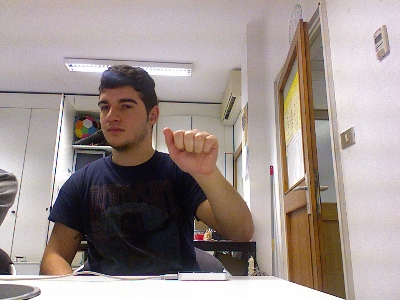石头: (161, 125, 219, 175)
